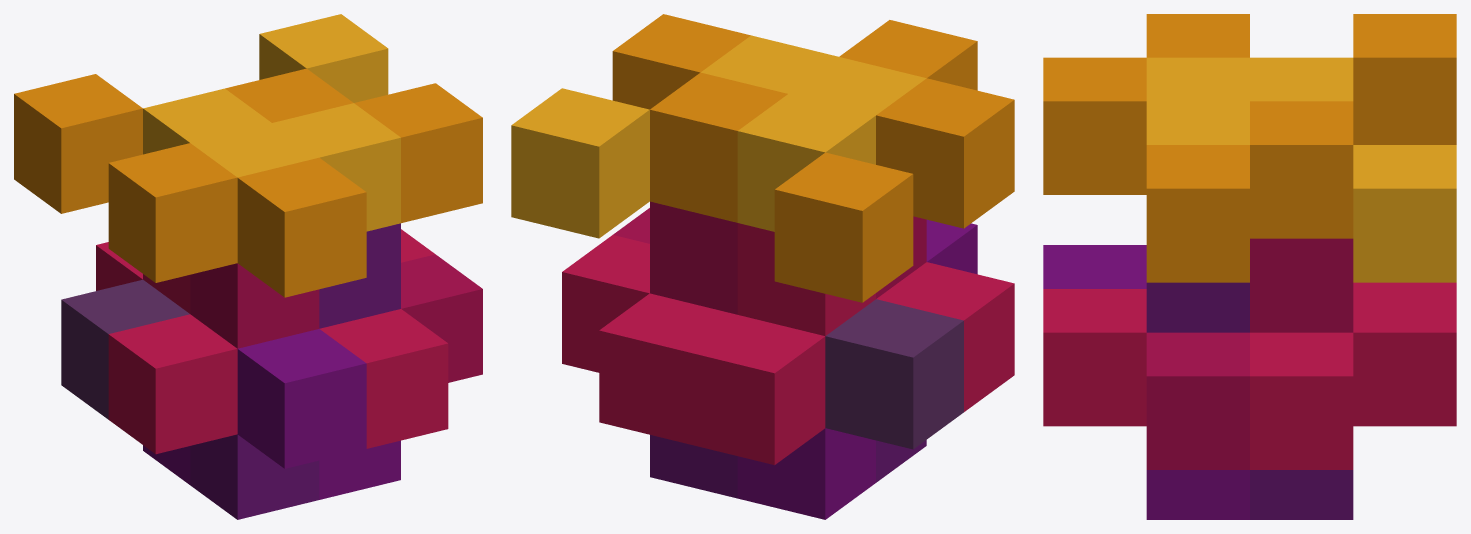
The model's file is Juan_Sebastian_Rocha_Ballen_fase_1.obj.
3 renders of one model, left to right at view 1: azimuth 30°, elevation 25°; view 2: azimuth 150°, elevation 25°; view 3: azimuth 270°, elevation 25°, orthographic. The views are drawn at different scales.
Parts seen in each view (by area): view 1: Juan_Sebastian_Rocha_Ballen_fase_1; view 2: Juan_Sebastian_Rocha_Ballen_fase_1; view 3: Juan_Sebastian_Rocha_Ballen_fase_1.
Boxes of the visible parts, box(x1,y1,x2,y2) form: Juan_Sebastian_Rocha_Ballen_fase_1: box(14, 14, 482, 519); Juan_Sebastian_Rocha_Ballen_fase_1: box(511, 14, 1014, 519); Juan_Sebastian_Rocha_Ballen_fase_1: box(1043, 14, 1456, 519).
Size of the model in its own units: 4 by 4 by 4.
1 material, 1 textured.
